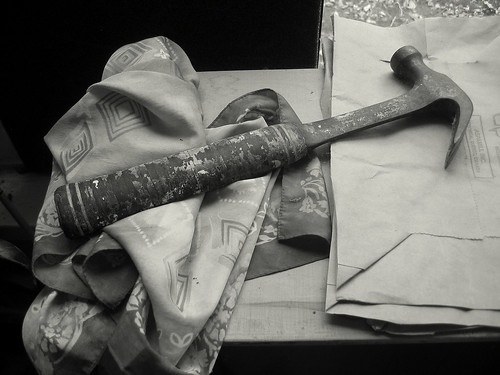hammer: (53, 42, 475, 239)
